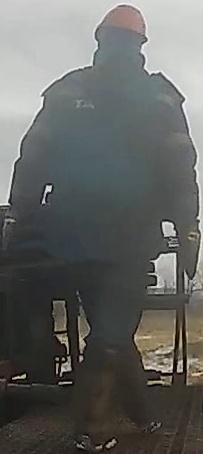gloves: (0, 199, 34, 253), (173, 218, 199, 283)
helmet: (89, 1, 149, 43)
vest: (32, 69, 188, 268)
